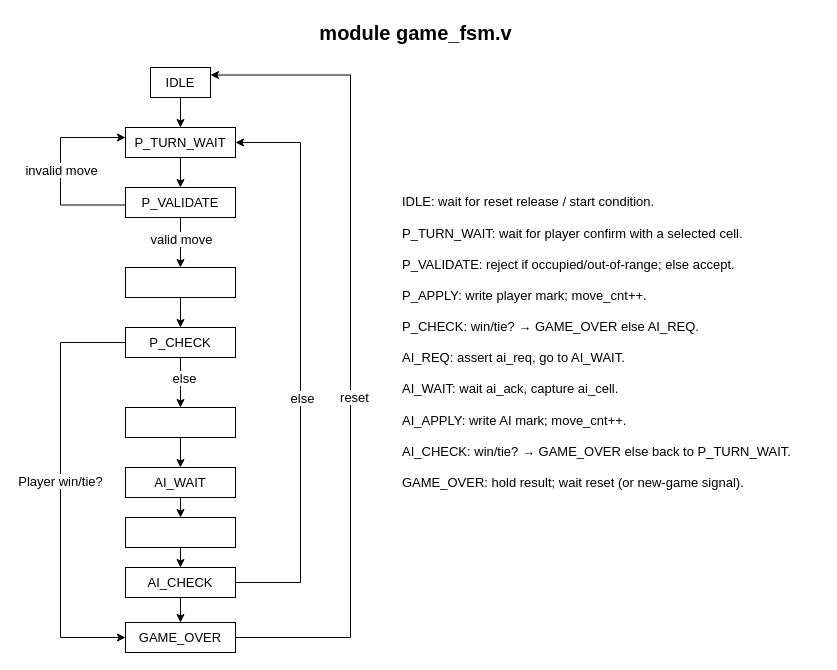
This 837x670 diagram has some shape labels left out. The shapes that lost their labels are listed below. From the top down, each one's centre as x and y in pixels, then its label:
At point (180, 282): "P_APPLY".
At point (180, 422): "AI_REQ".
At point (180, 532): "AI_APPLY".
